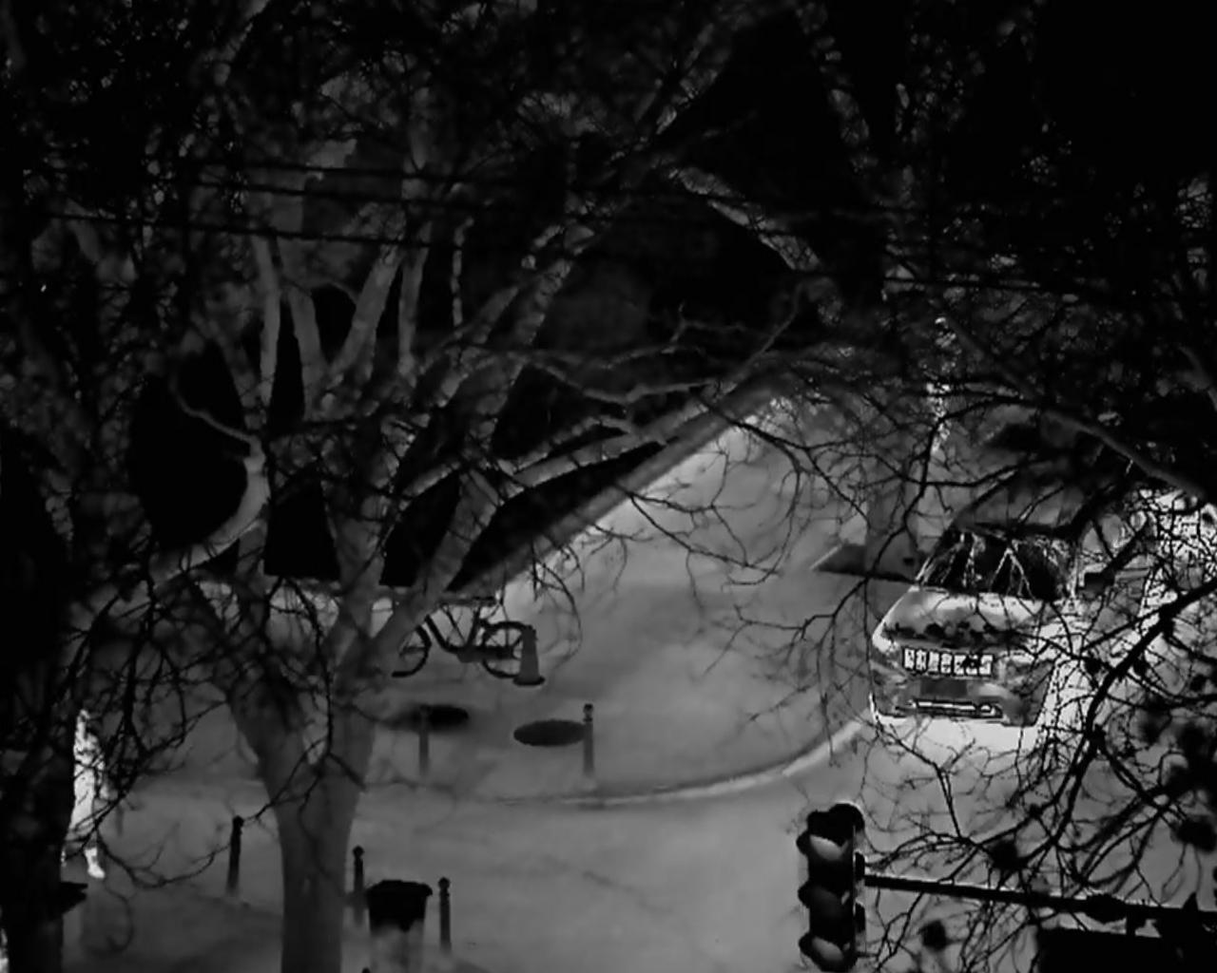person: (62, 710, 109, 881)
